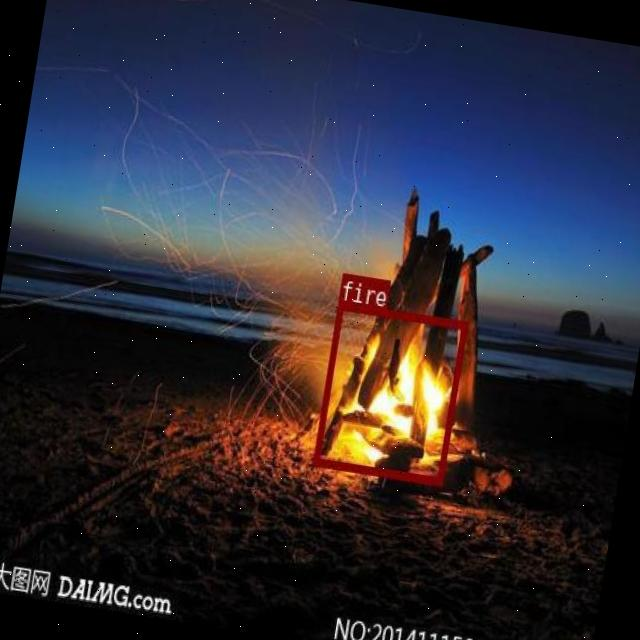fire: (313, 300, 467, 484)
